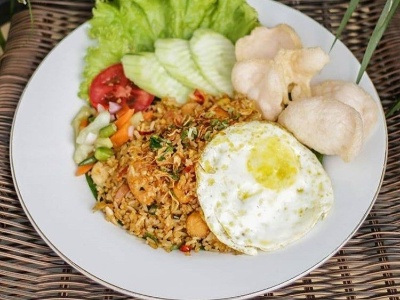nasigoreng: (88, 68, 325, 254)
